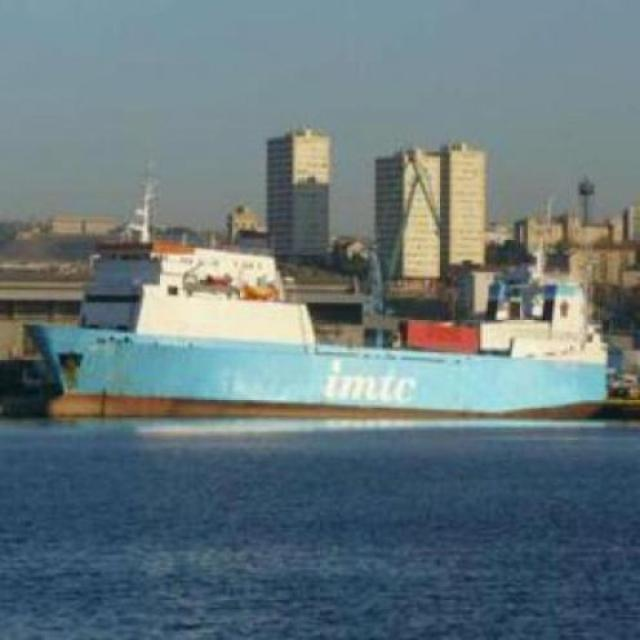boat: (25, 228, 620, 426)
